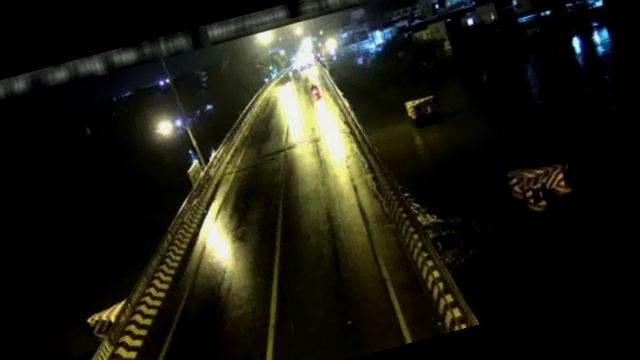Bike: (306, 78, 323, 100)
